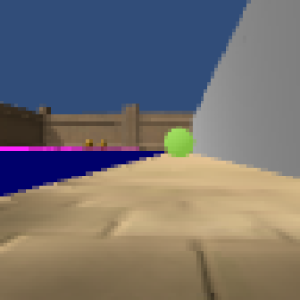goodGoal: (165, 129, 195, 158)
goodGoalMulti: (82, 138, 95, 148), (98, 138, 110, 148)
platform: (1, 150, 172, 199)
ramp: (1, 146, 82, 150)
wall: (186, 1, 300, 183)
